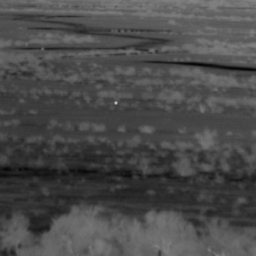Target: (112, 99, 119, 106)
